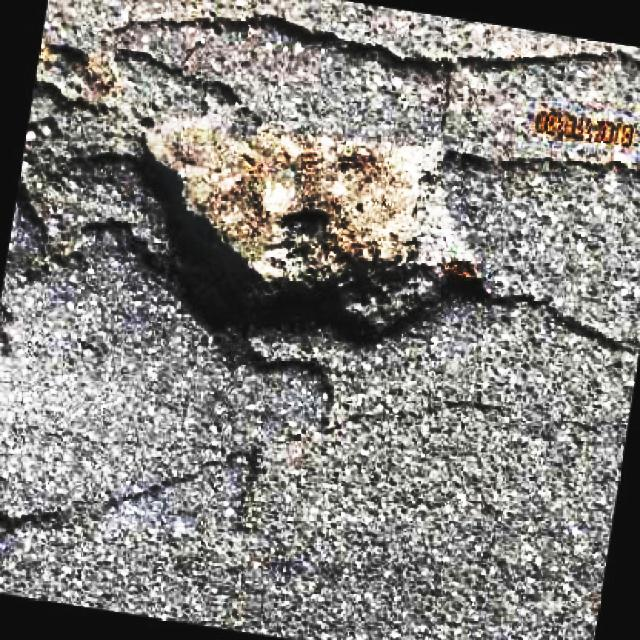pothole: (137, 103, 461, 348)
